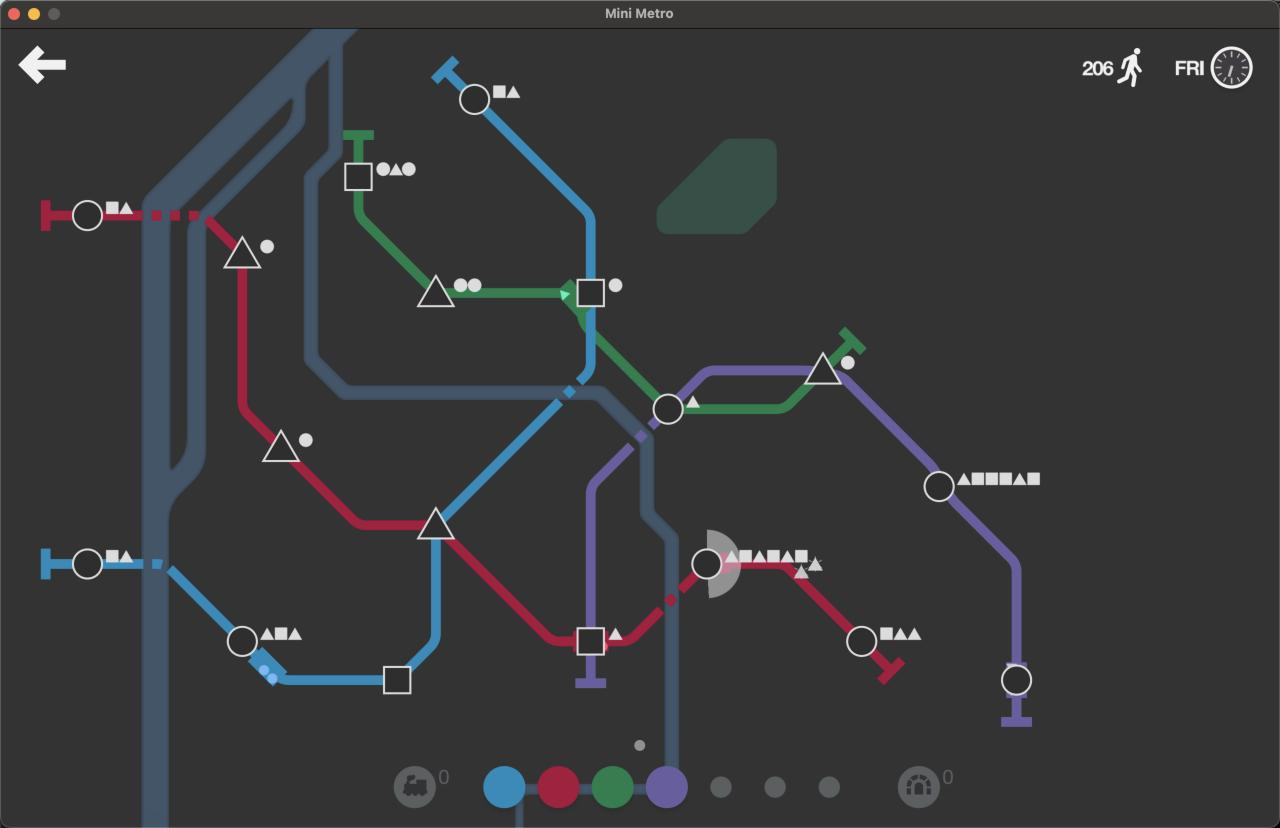CIRCLE: (1000, 662, 1033, 698), (226, 624, 259, 658), (690, 547, 723, 580), (923, 470, 956, 503), (652, 392, 684, 426), (846, 625, 878, 658), (72, 547, 104, 580), (72, 199, 104, 232), (458, 83, 490, 115)
SQUARE: (575, 277, 607, 309), (382, 663, 413, 695), (575, 626, 607, 657), (344, 162, 374, 192)
TRIANGLE: (415, 505, 457, 542), (221, 235, 263, 271), (416, 273, 457, 309), (261, 428, 302, 463), (804, 350, 843, 386)
